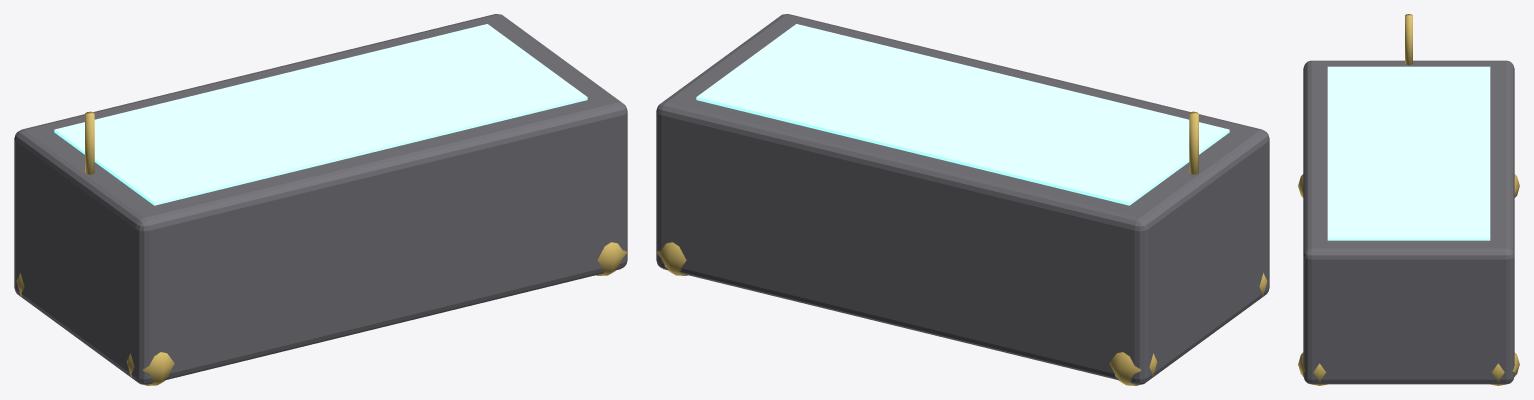
Rendered from bath_fixture_stone_tub.glb.
3 views of the same model, side by side, from view 1: azimuth 30°, elevation 25°; view 2: azimuth 150°, elevation 25°; view 3: azimuth 270°, elevation 25° (orthographic). The views are drawn at different scales.
Parts seen in each view (by area): view 1: GD_bath_fixture_stone_tub__m0, GD_bath_fixture_stone_tub__m1, GD_bath_fixture_stone_tub__m2; view 2: GD_bath_fixture_stone_tub__m0, GD_bath_fixture_stone_tub__m1, GD_bath_fixture_stone_tub__m2; view 3: GD_bath_fixture_stone_tub__m0, GD_bath_fixture_stone_tub__m1, GD_bath_fixture_stone_tub__m2.
Part boxes in pixels (x1=…): GD_bath_fixture_stone_tub__m0: x1=14, y1=14, x2=627, y2=384; GD_bath_fixture_stone_tub__m1: x1=54, y1=24, x2=587, y2=205; GD_bath_fixture_stone_tub__m2: x1=16, y1=111, x2=626, y2=385; GD_bath_fixture_stone_tub__m0: x1=656, y1=14, x2=1269, y2=384; GD_bath_fixture_stone_tub__m1: x1=696, y1=24, x2=1229, y2=205; GD_bath_fixture_stone_tub__m2: x1=657, y1=111, x2=1267, y2=385; GD_bath_fixture_stone_tub__m0: x1=1303, y1=60, x2=1514, y2=384; GD_bath_fixture_stone_tub__m1: x1=1327, y1=66, x2=1490, y2=240; GD_bath_fixture_stone_tub__m2: x1=1298, y1=14, x2=1519, y2=385.
Bounding box in the file's own units: 1.72 × 0.765 × 0.82.
